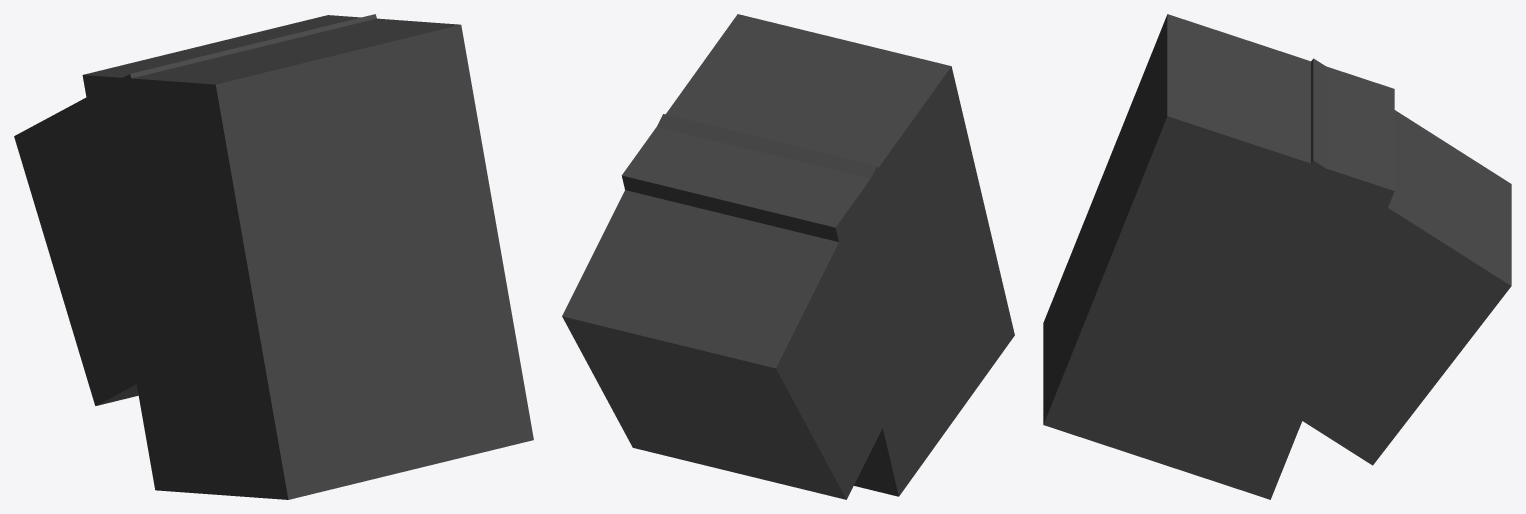
File: Stone.fbx
3 views of the same model, side by side, from view 1: azimuth 30°, elevation 25°; view 2: azimuth 150°, elevation 25°; view 3: azimuth 270°, elevation 25° (orthographic). The views are drawn at different scales.
Parts seen in each view (by area): view 1: mesh, mesh_1; view 2: mesh, mesh_1; view 3: mesh, mesh_1.
Part boxes in pixels (<box>): mesh: <box>82,15,533,499</box>; mesh_1: <box>14,14,376,405</box>; mesh: <box>621,14,1014,496</box>; mesh_1: <box>562,114,927,499</box>; mesh: <box>1043,14,1394,499</box>; mesh_1: <box>1175,58,1511,465</box>.
Bounding box in the file's own units: 25 × 43.79 × 48.4.
2 materials, 2 textured.
